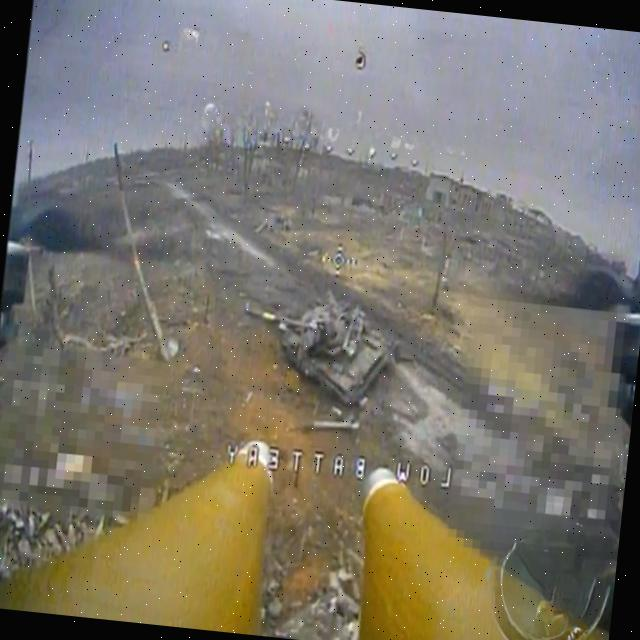MBT: (236, 283, 399, 408)
